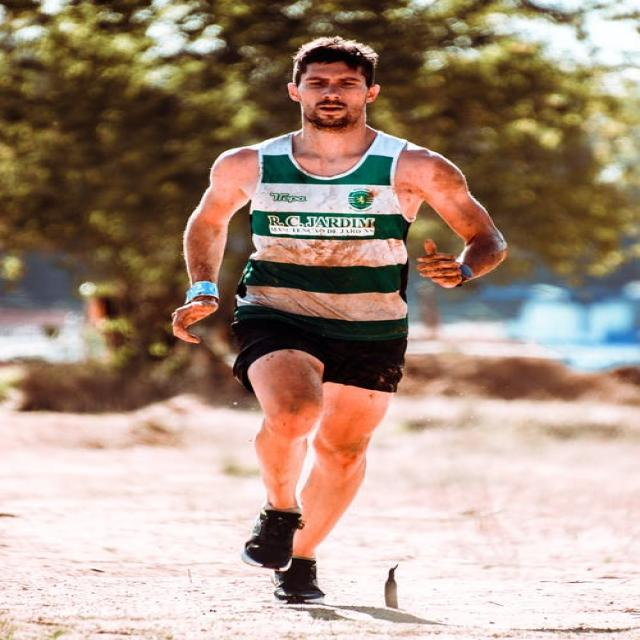running: (164, 35, 512, 609)
